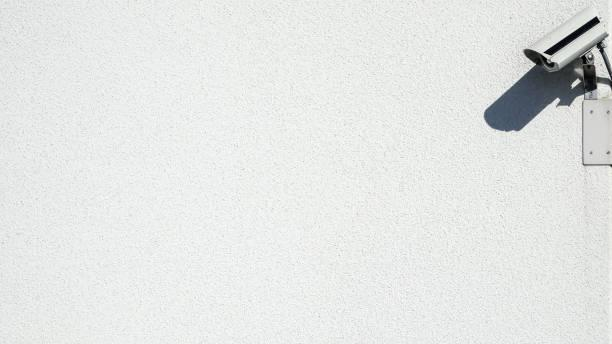camera: (515, 0, 606, 90)
